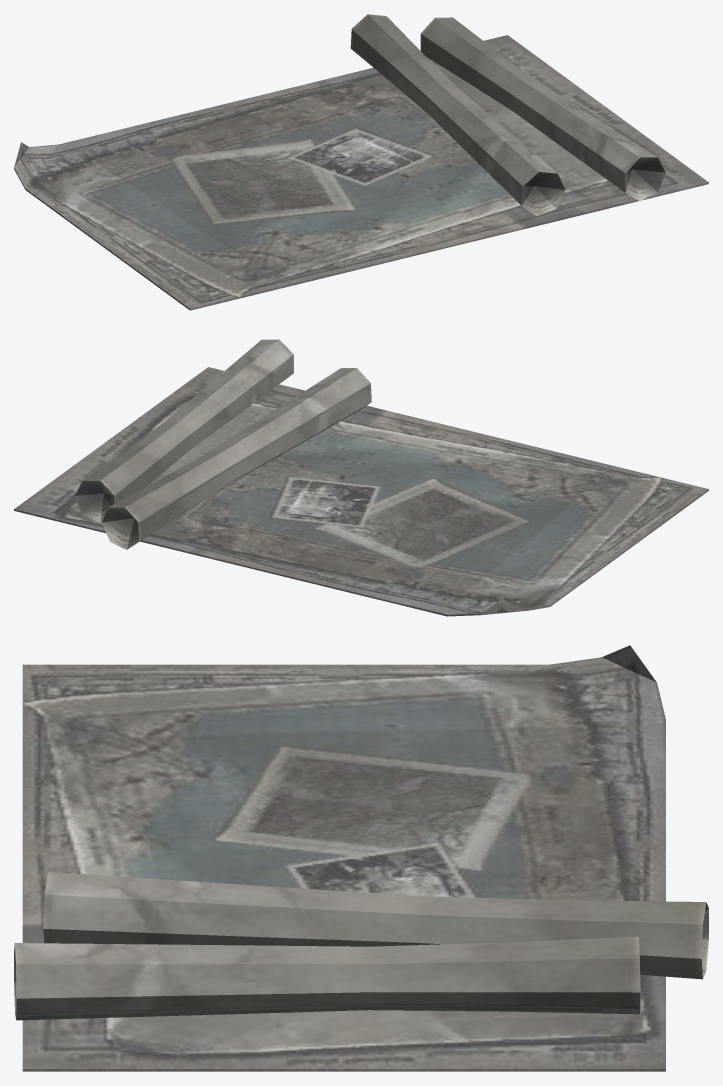
File: Maps.FBX
3 views of the same model, one above another, from view 1: azimuth 30°, elevation 25°; view 2: azimuth 150°, elevation 25°; view 3: azimuth 270°, elevation 25° (orthographic). The views are drawn at different scales.
Visible parts, largest first — view 1: Maps; view 2: Maps; view 3: Maps.
Part boxes in pixels (x1,y1,x2,y2): Maps: [14, 14, 708, 310]; Maps: [14, 339, 708, 616]; Maps: [14, 645, 708, 1071].
Size of the model in its own units: 44.63 by 32.43 by 3.78.
